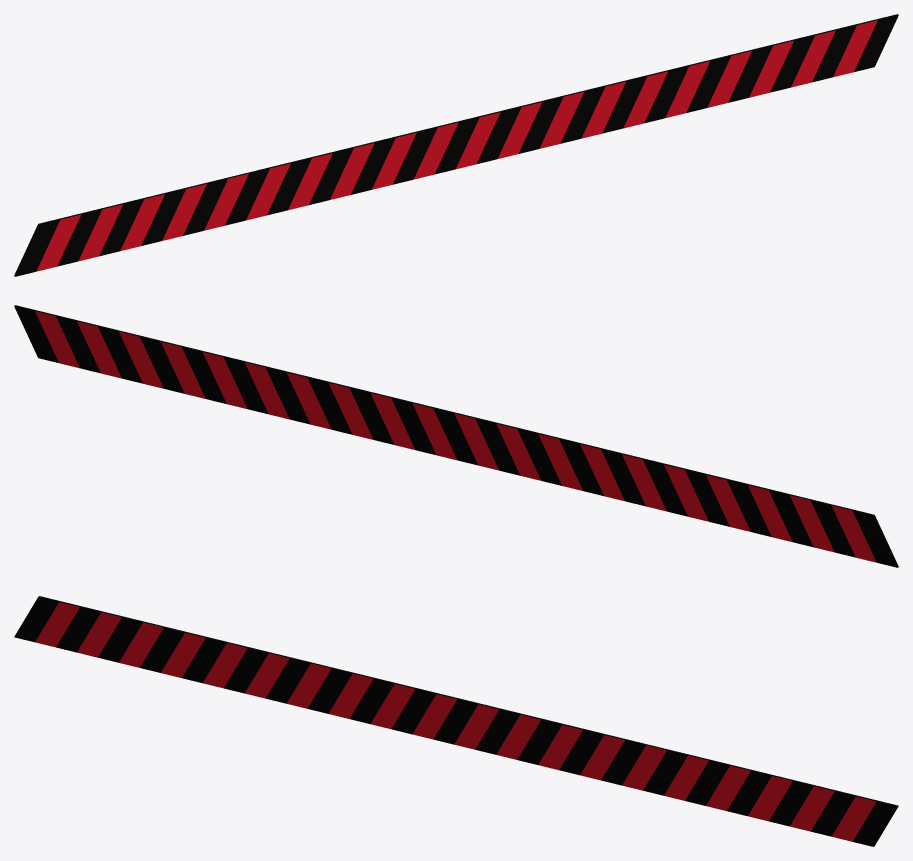
Rendered from stopBlock.fbx.
The picture shows the model from 3 angles, top to bottom: view 1: azimuth 30°, elevation 25°; view 2: azimuth 150°, elevation 25°; view 3: azimuth 330°, elevation 25°; orthographic projection.
Parts seen in each view (by area): view 1: Plane.071, Plane.084, Plane.027, Plane.066, Plane.016, Plane.020, Plane.001, Plane.088, Plane.048, Plane.007, Plane.036, Plane.039 (+21 smaller); view 2: Plane.071, Plane.084, Plane.027, Plane.066, Plane.016, Plane.020, Plane.001, Plane.088, Plane.048, Plane.007, Plane.036, Plane.039 (+21 smaller); view 3: Plane.071, Plane.084, Plane.027, Plane.066, Plane.016, Plane.020, Plane.001, Plane.088, Plane.048, Plane.007, Plane.036, Plane.039 (+21 smaller).
Part boxes in pixels (box(x1,y1,x2,y2)): Plane.071: box(625, 70, 668, 126); Plane.084: box(728, 45, 772, 102); Plane.027: box(269, 176, 312, 213); Plane.066: box(581, 84, 620, 138); Plane.016: box(162, 183, 206, 240); Plane.020: box(204, 202, 272, 230); Plane.001: box(32, 222, 66, 258); Plane.088: box(774, 34, 814, 83); Plane.048: box(434, 117, 479, 174); Plane.007: box(88, 203, 123, 246); Plane.036: box(351, 143, 382, 194); Plane.039: box(382, 132, 416, 186); Plane.071: box(244, 361, 287, 417); Plane.084: box(140, 336, 184, 393); Plane.027: box(600, 467, 643, 504); Plane.066: box(292, 375, 331, 429); Plane.016: box(706, 474, 750, 531); Plane.020: box(640, 493, 708, 521); Plane.001: box(846, 513, 880, 549); Plane.088: box(98, 325, 138, 374); Plane.048: box(433, 408, 478, 465); Plane.007: box(789, 494, 824, 537); Plane.036: box(530, 434, 561, 485); Plane.039: box(496, 423, 530, 477); Plane.071: box(624, 744, 667, 790); Plane.084: box(727, 770, 772, 815); Plane.027: box(268, 676, 311, 708); Plane.066: box(580, 735, 619, 780); Plane.016: box(161, 632, 206, 677); Plane.020: box(203, 663, 270, 699); Plane.001: box(31, 596, 65, 638); Plane.088: box(773, 780, 814, 818); Plane.048: box(433, 704, 478, 744); Plane.007: box(86, 611, 122, 650); Plane.036: box(349, 679, 381, 723); Plane.039: box(381, 683, 416, 726).
Bounding box in the file's own units: 40 × 2 × 0.1.
